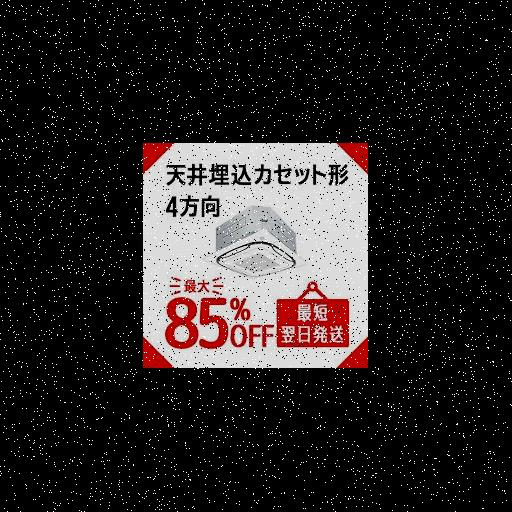4-way-ac: (204, 230, 306, 280)
